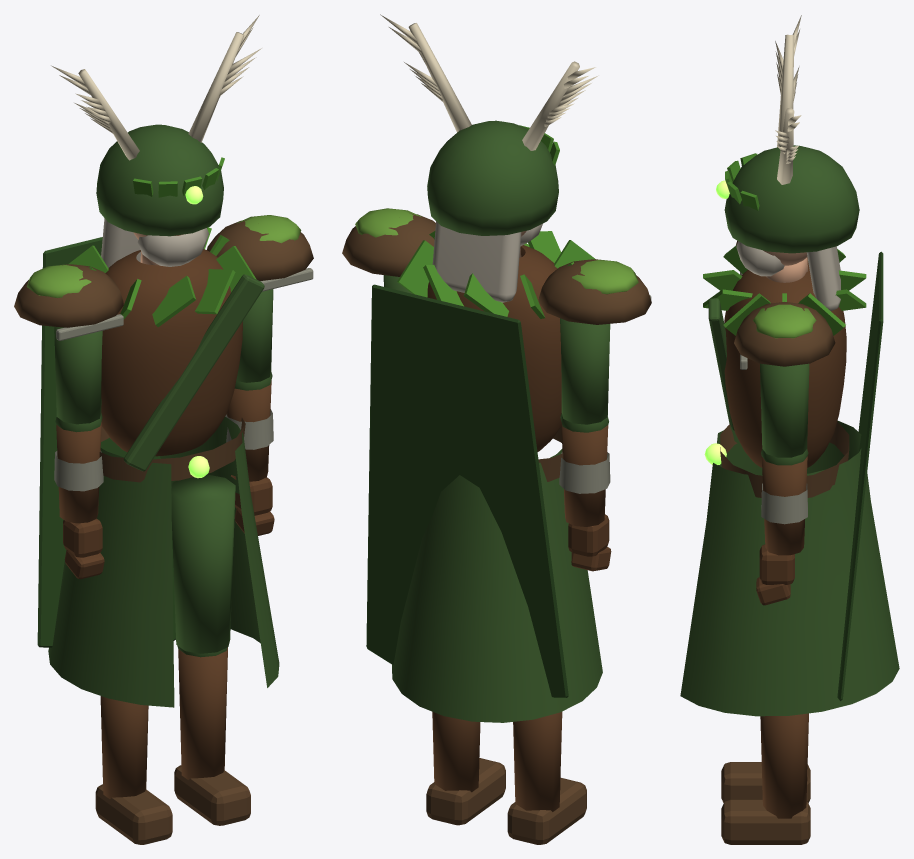
File: hero_druid.glb
3 views of the same model, side by side, from view 1: azimuth 30°, elevation 25°; view 2: azimuth 150°, elevation 25°; view 3: azimuth 270°, elevation 25° (orthographic). The views are drawn at different scales.
Visible parts, largest first — view 1: robeskirt, chest, thigh, hood, cape, shin, sash, shin.001, upperarm.001, pauldron.001, pauldron, boot.001 (+20 smaller); view 2: cape, robeskirt, hood, chest, mane, upperarm.001, shin.001, pauldron.001, shin, pauldron, boot, forearm.001 (+12 smaller); view 3: robeskirt, hood, chest, shin, upperarm, cape, pauldron, boot, forearm, belt, boot.001, moss (+14 smaller).
Boxes of the visible parts, <box> form: robeskirt: <box>48,416,279,707</box>; chest: <box>101,249,242,456</box>; thigh: <box>171,474,235,653</box>; hood: <box>96,124,223,236</box>; cape: <box>37,237,175,647</box>; shin: <box>178,647,227,779</box>; sash: <box>123,274,264,471</box>; shin.001: <box>100,696,148,798</box>; upperarm.001: <box>54,326,102,424</box>; pauldron.001: <box>14,264,123,327</box>; pauldron: <box>207,219,313,280</box>; boot.001: <box>95,784,172,844</box>; cape: <box>366,284,568,697</box>; robeskirt: <box>392,449,602,722</box>; hood: <box>427,120,558,235</box>; chest: <box>427,245,561,451</box>; mane: <box>432,221,521,302</box>; upperarm.001: <box>560,318,610,424</box>; shin.001: <box>513,712,562,811</box>; pauldron.001: <box>538,259,651,324</box>; shin: <box>432,711,480,792</box>; pauldron: <box>342,213,435,276</box>; boot: <box>426,758,505,825</box>; forearm.001: <box>561,422,608,526</box>; robeskirt: <box>680,420,899,716</box>; hood: <box>724,145,859,253</box>; chest: <box>724,261,846,467</box>; shin: <box>760,713,808,818</box>; upperarm: <box>760,363,809,457</box>; cape: <box>837,251,883,700</box>; pauldron: <box>734,302,835,366</box>; boot: <box>721,799,810,844</box>; forearm: <box>761,456,807,555</box>; belt: <box>720,421,849,497</box>; boot.001: <box>721,762,810,802</box>; moss: <box>753,304,816,338</box>.
Size of the model in its own units: 0.879 by 2.24 by 0.5893.
